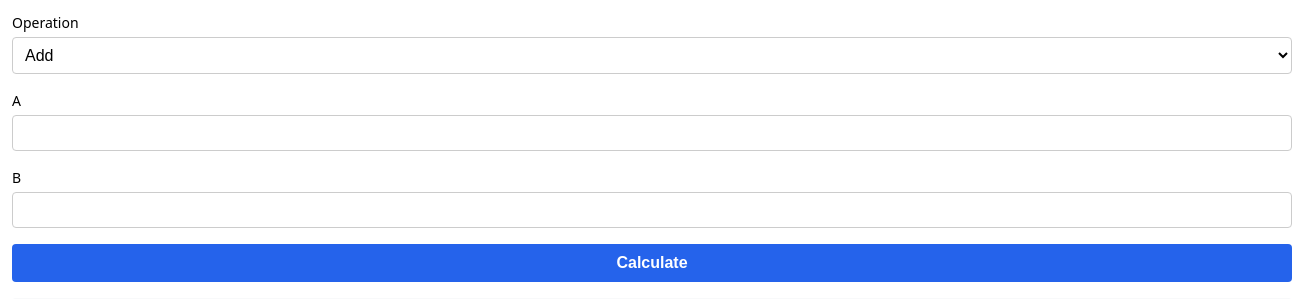
it: hides operand B when sqrt is selected
Expected: the field labelled "B" is shown, 12,192 -> 1292,228
Select "Square Root" in the dropdown labelled "Operation" at [652, 56], box 12,37 -> 1292,74
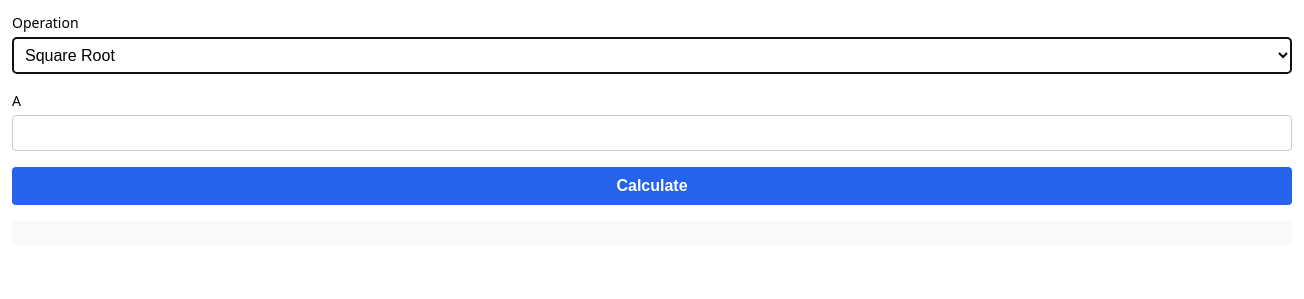
Expected: the label labelled "B" is gone
